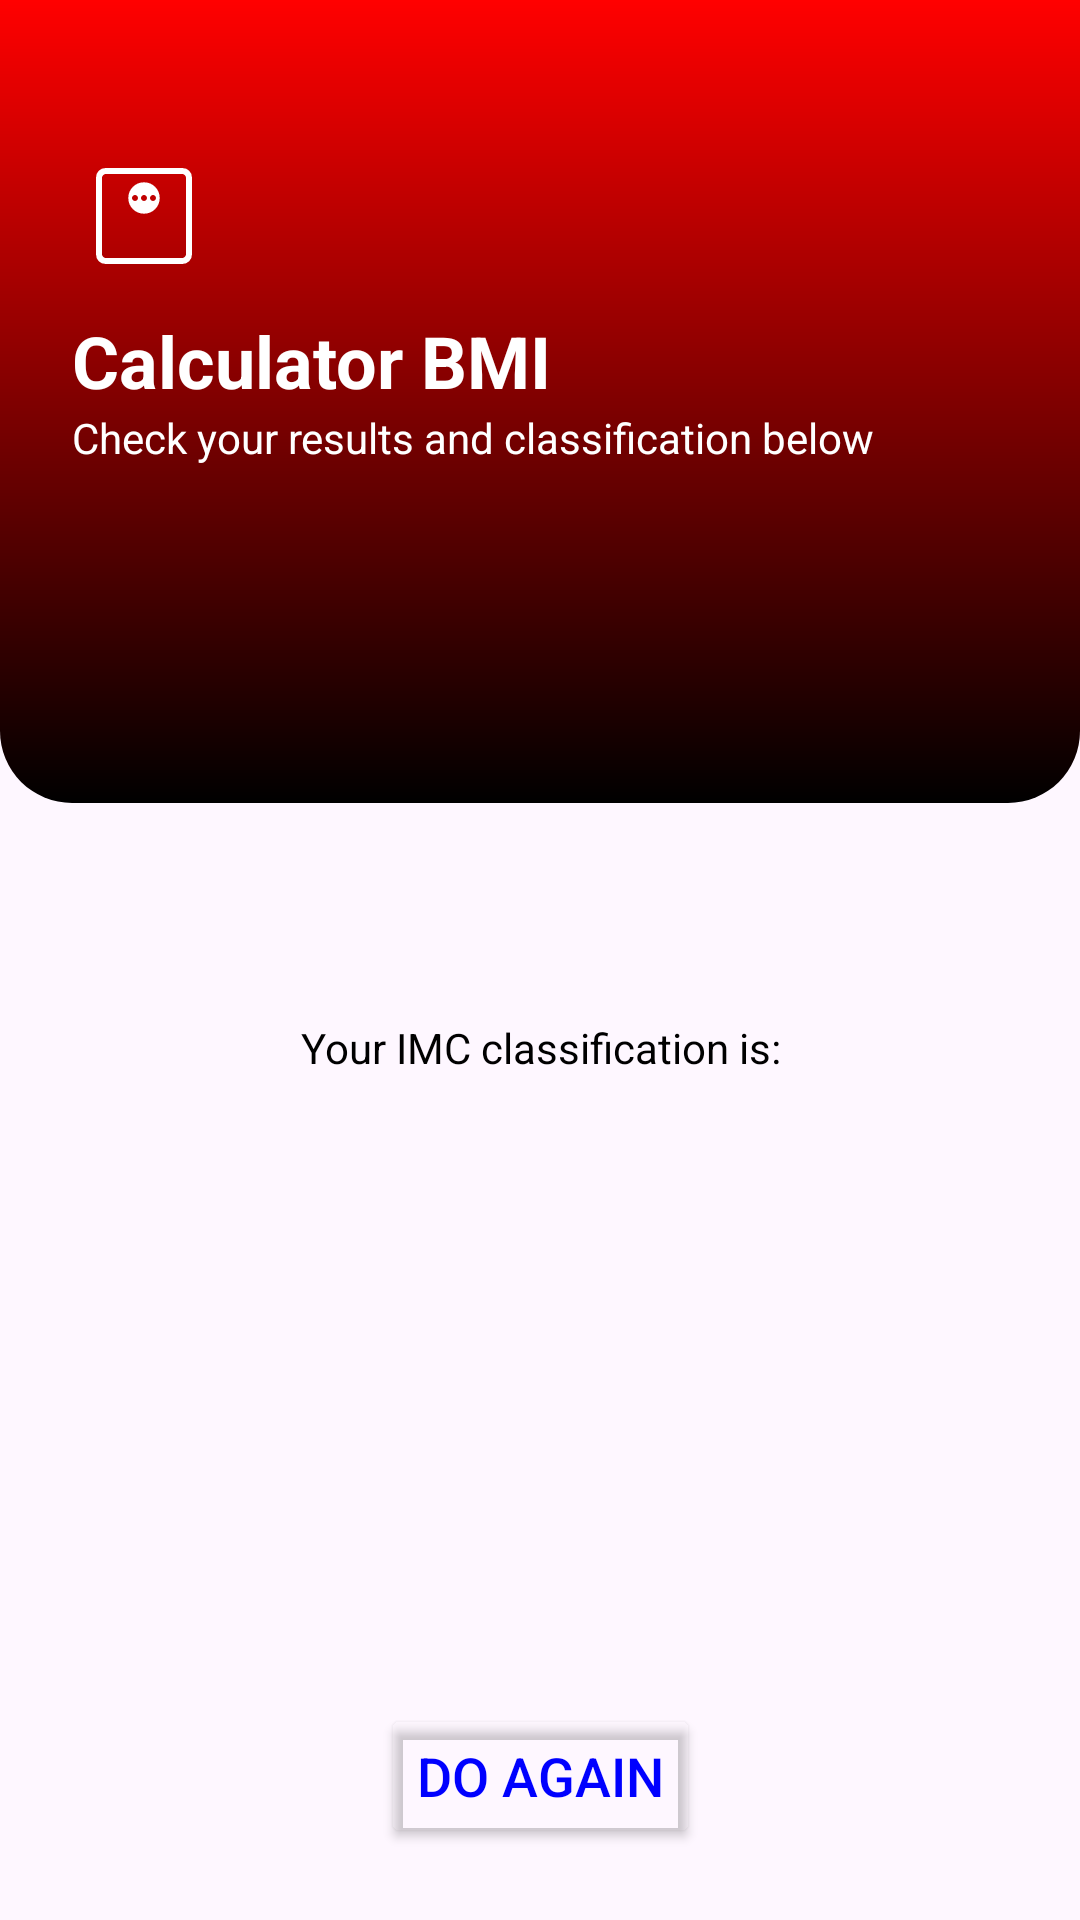

Point at icon controls on the screen. Image size 1080×1920, points as (x,y).
weight: (144,216)
